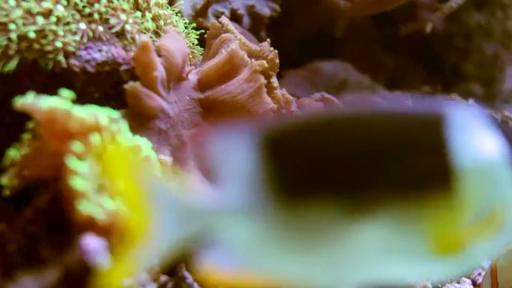Fish: (133, 101, 511, 287), (481, 248, 511, 287)
